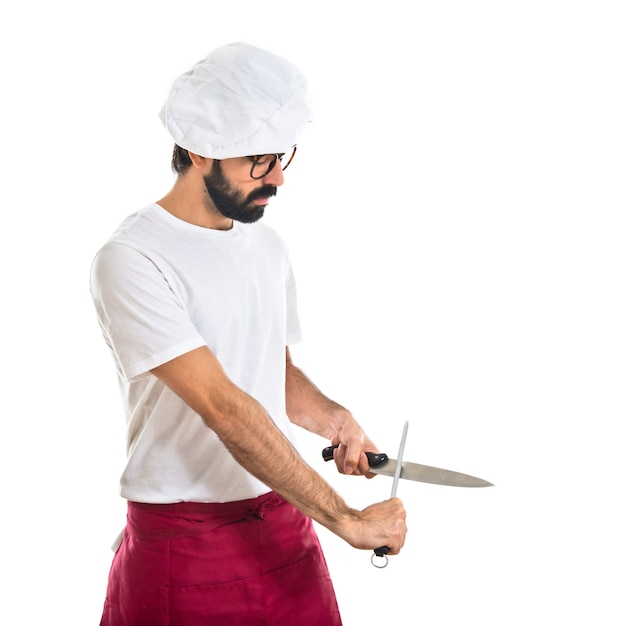knife: (370, 457, 495, 488)
